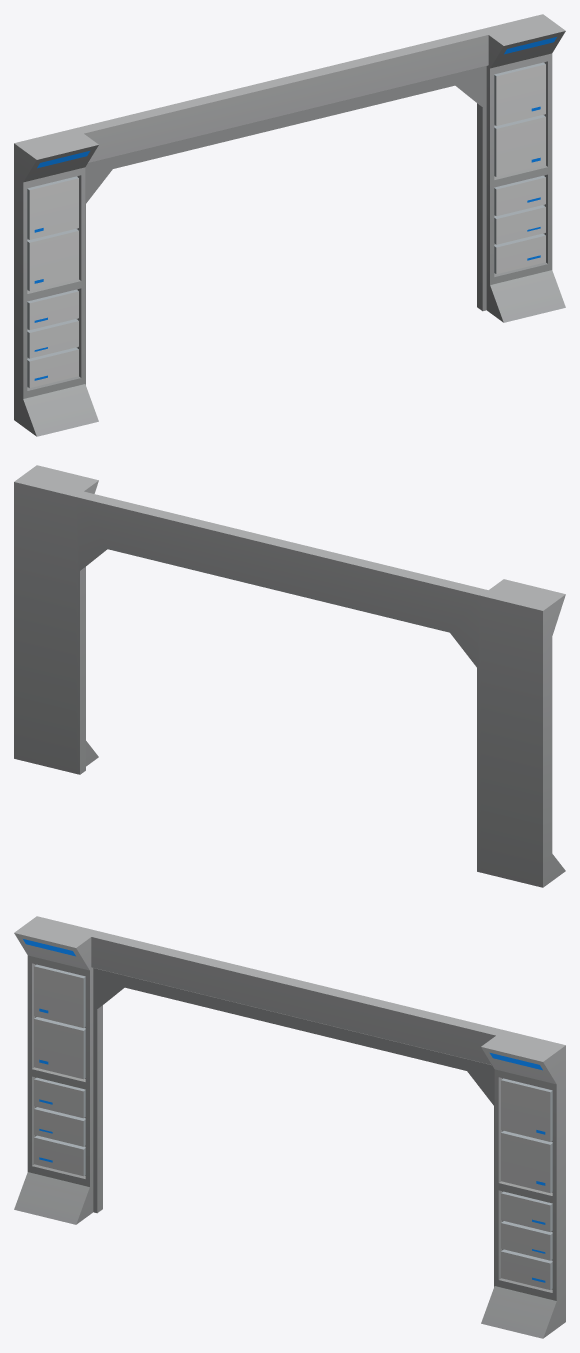
File: Wall_type_A_064.glb
3 views of the same model, one above another, from view 1: azimuth 30°, elevation 25°; view 2: azimuth 150°, elevation 25°; view 3: azimuth 330°, elevation 25° (orthographic).
Visible parts, largest first — view 1: Wall_type_A_064; view 2: Wall_type_A_064; view 3: Wall_type_A_064.
Boxes of the visible parts, <box> form: Wall_type_A_064: <box>14,14,565,436</box>; Wall_type_A_064: <box>14,465,565,887</box>; Wall_type_A_064: <box>14,916,565,1338</box>.
Size of the model in its own units: 8 by 4 by 0.6.
Materials: 2 (2 with a texture image).
